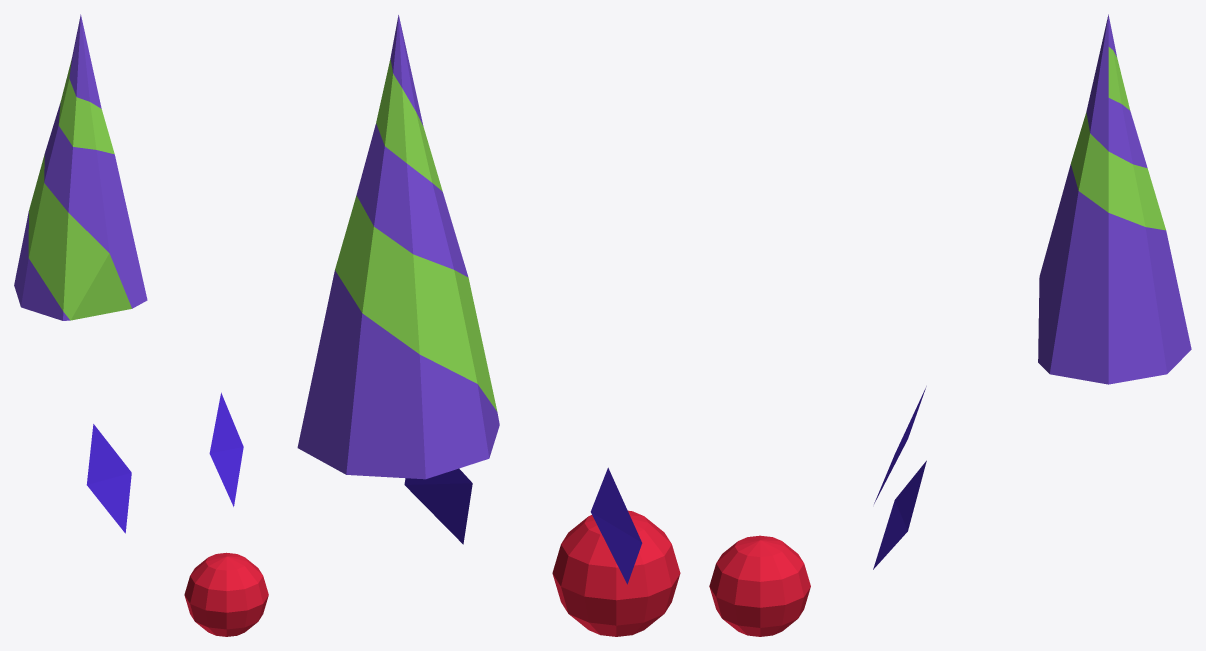
File: Clown_v1.0.fbx
3 views of the same model, side by side, from view 1: azimuth 30°, elevation 25°; view 2: azimuth 150°, elevation 25°; view 3: azimuth 270°, elevation 25° (orthographic). The views are drawn at different scales.
Parts seen in each view (by area): view 1: Cone, Sphere, Plane; view 2: Cone, Sphere, Plane; view 3: Cone, Sphere, Plane.
Boxes of the visible parts, x1=… form: Cone: x1=14, y1=14, x2=147, y2=320; Sphere: x1=184, y1=552, x2=268, y2=636; Plane: x1=86, y1=392, x2=243, y2=533; Cone: x1=297, y1=15, x2=499, y2=479; Sphere: x1=552, y1=510, x2=680, y2=636; Plane: x1=404, y1=467, x2=642, y2=584; Cone: x1=1038, y1=14, x2=1191, y2=384; Sphere: x1=709, y1=535, x2=810, y2=636; Plane: x1=873, y1=386, x2=926, y2=569.
Size of the model in its own units: 30.77 by 96.18 by 68.05.
